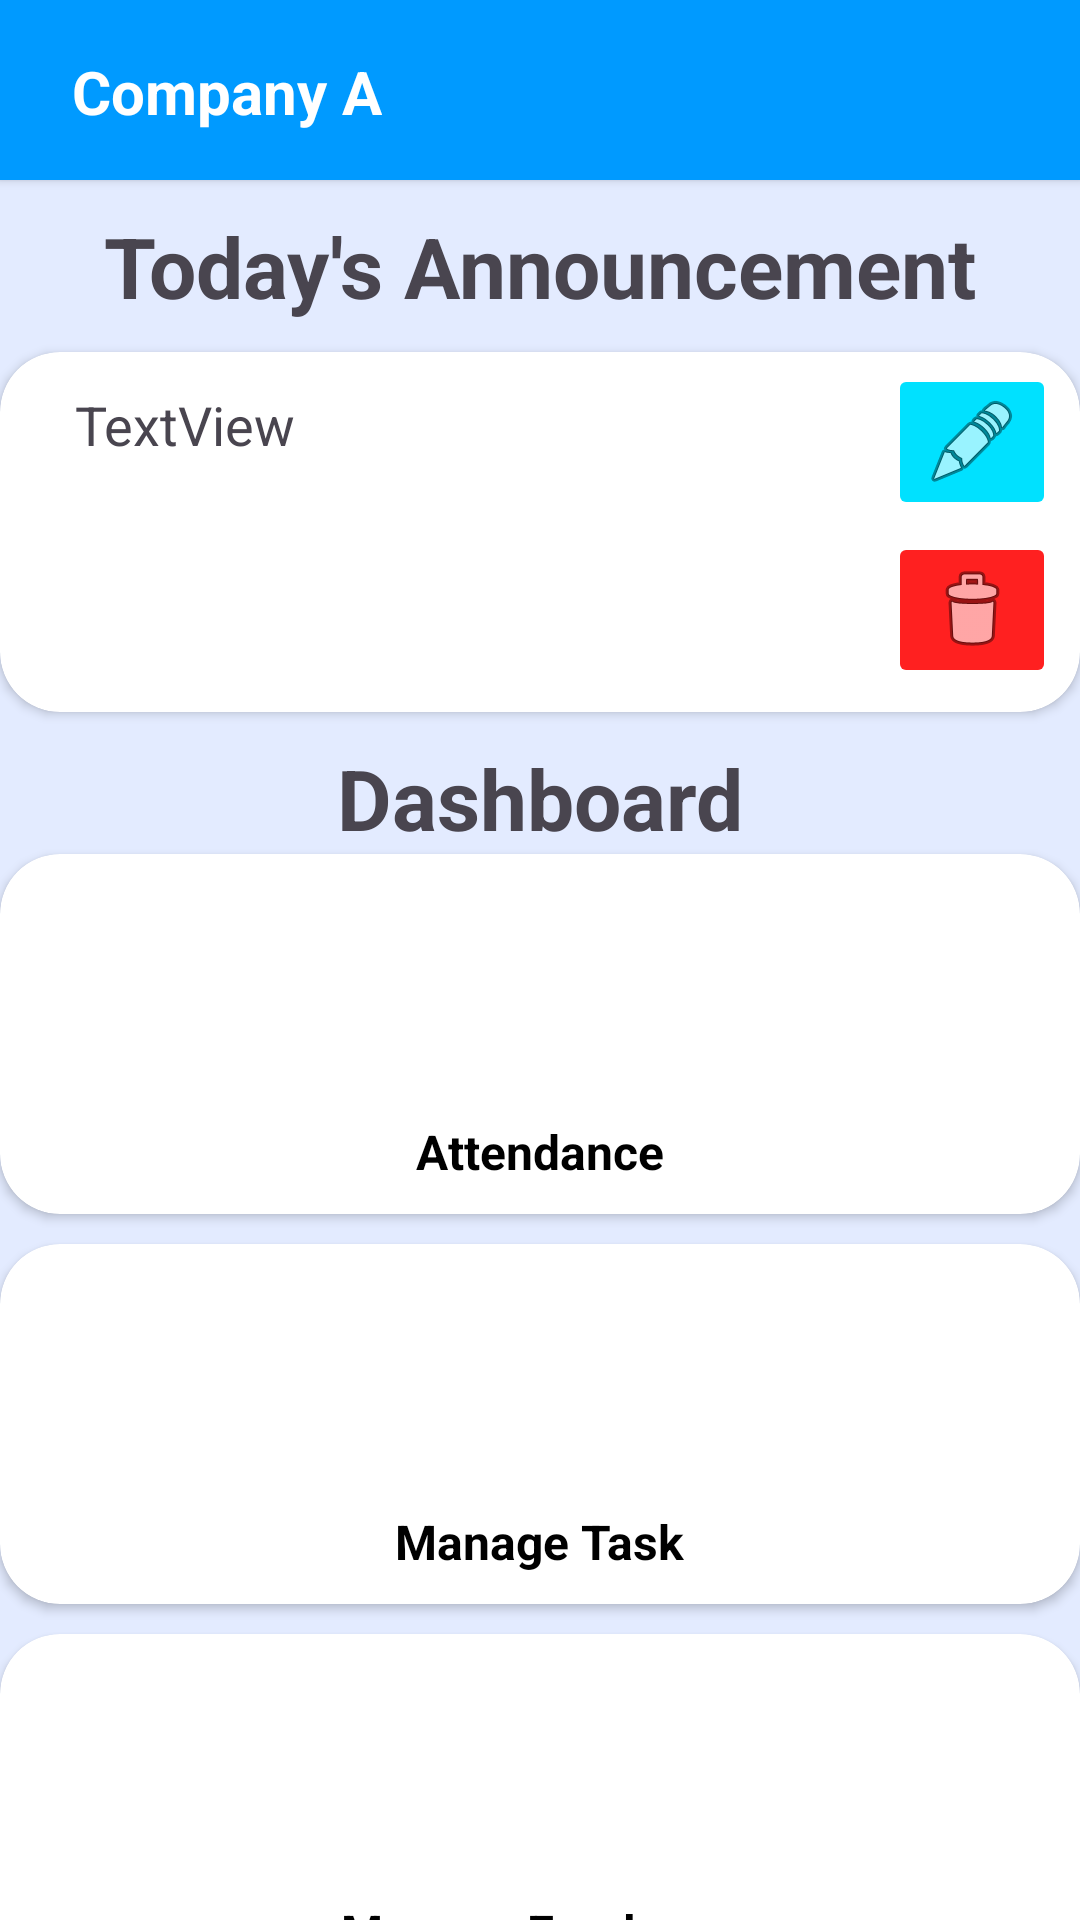

Locate icon controls on the screen. Image size 1080x1920, boxes as (x1, y1, x2, y2).
delete: (900, 550, 1044, 670)
edit: (900, 382, 1044, 502)
